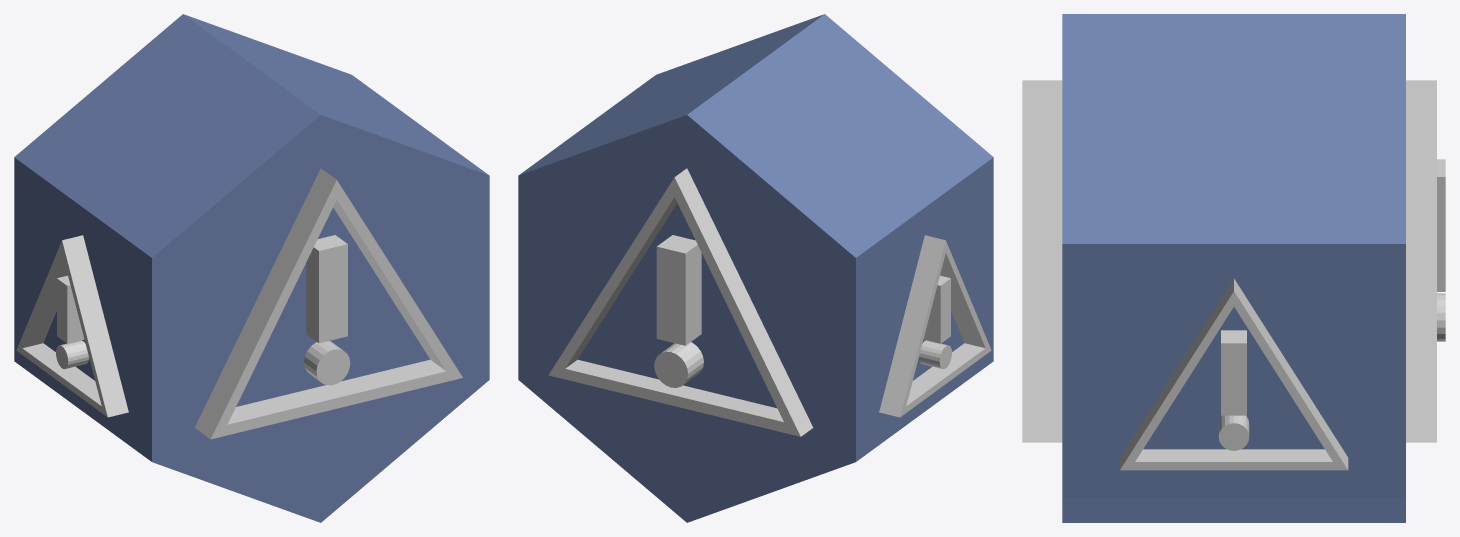
Rendered from incident-full-3d.glb.
The picture shows the model from 3 angles, left to right: view 1: azimuth 30°, elevation 25°; view 2: azimuth 150°, elevation 25°; view 3: azimuth 270°, elevation 25°; orthographic projection. The views are drawn at different scales.
Visible parts, largest first — view 1: Mesh_Mesh_head_geo.001_lambert2SG.001; view 2: Mesh_Mesh_head_geo.001_lambert2SG.001; view 3: Mesh_Mesh_head_geo.001_lambert2SG.001.
Boxes of the visible parts, left/top/right/bottom form: Mesh_Mesh_head_geo.001_lambert2SG.001: left=14, top=14, right=489, bottom=522; Mesh_Mesh_head_geo.001_lambert2SG.001: left=518, top=14, right=993, bottom=522; Mesh_Mesh_head_geo.001_lambert2SG.001: left=1022, top=14, right=1445, bottom=522.
Size of the model in its own units: 22.4 by 23 by 17.34.
